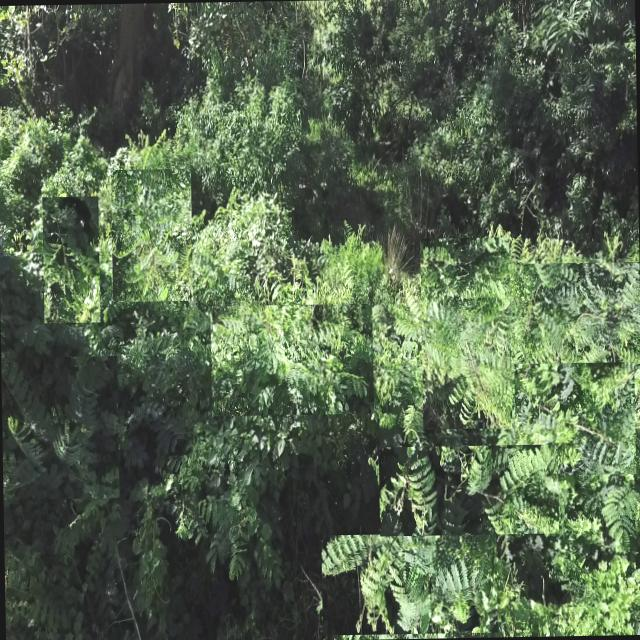Mysore-Thorn-Weed: (321, 532, 497, 636), (210, 304, 373, 416), (419, 236, 512, 429), (1, 356, 119, 500), (378, 444, 559, 536), (514, 362, 636, 476), (523, 261, 640, 365), (180, 474, 286, 584), (110, 168, 193, 302), (42, 196, 100, 323)
